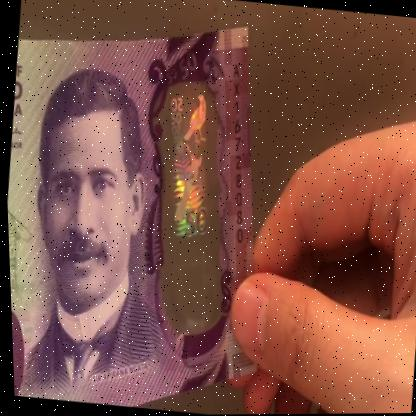50F: (141, 87, 234, 318)
